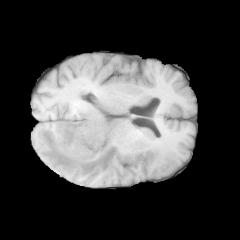glioma: (40, 87, 118, 178)
